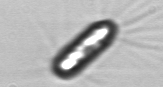plankton: (50, 19, 121, 80)
